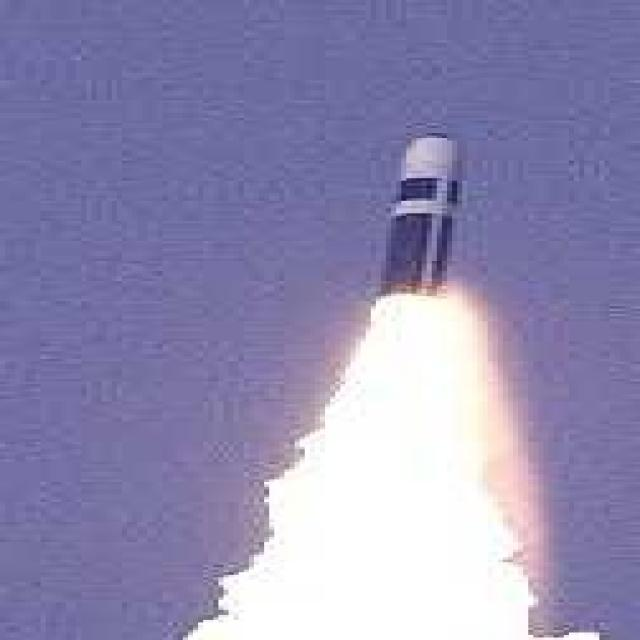missile: (367, 132, 465, 312)
